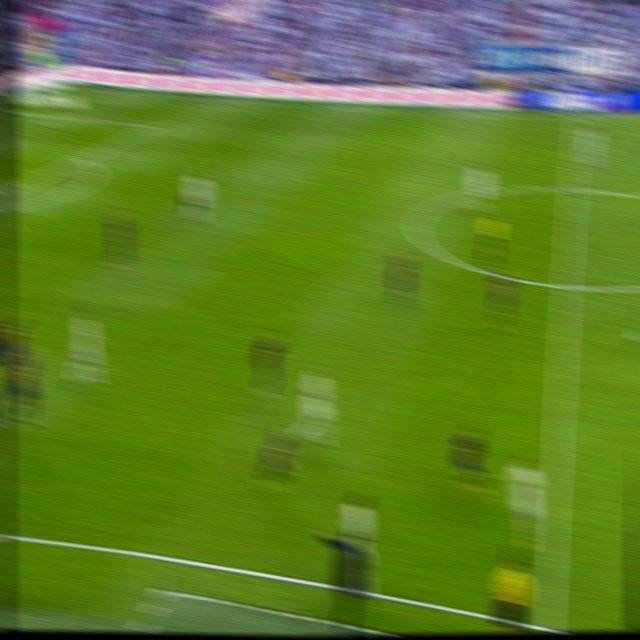halfcircle_bottom: (556, 273, 576, 299)
halfcircle_top: (563, 178, 582, 199)
midline_bottom_intersection: (536, 609, 560, 633)
midline_top_intersection: (569, 110, 584, 124)
top_arc_area_intersection: (75, 149, 92, 166)
